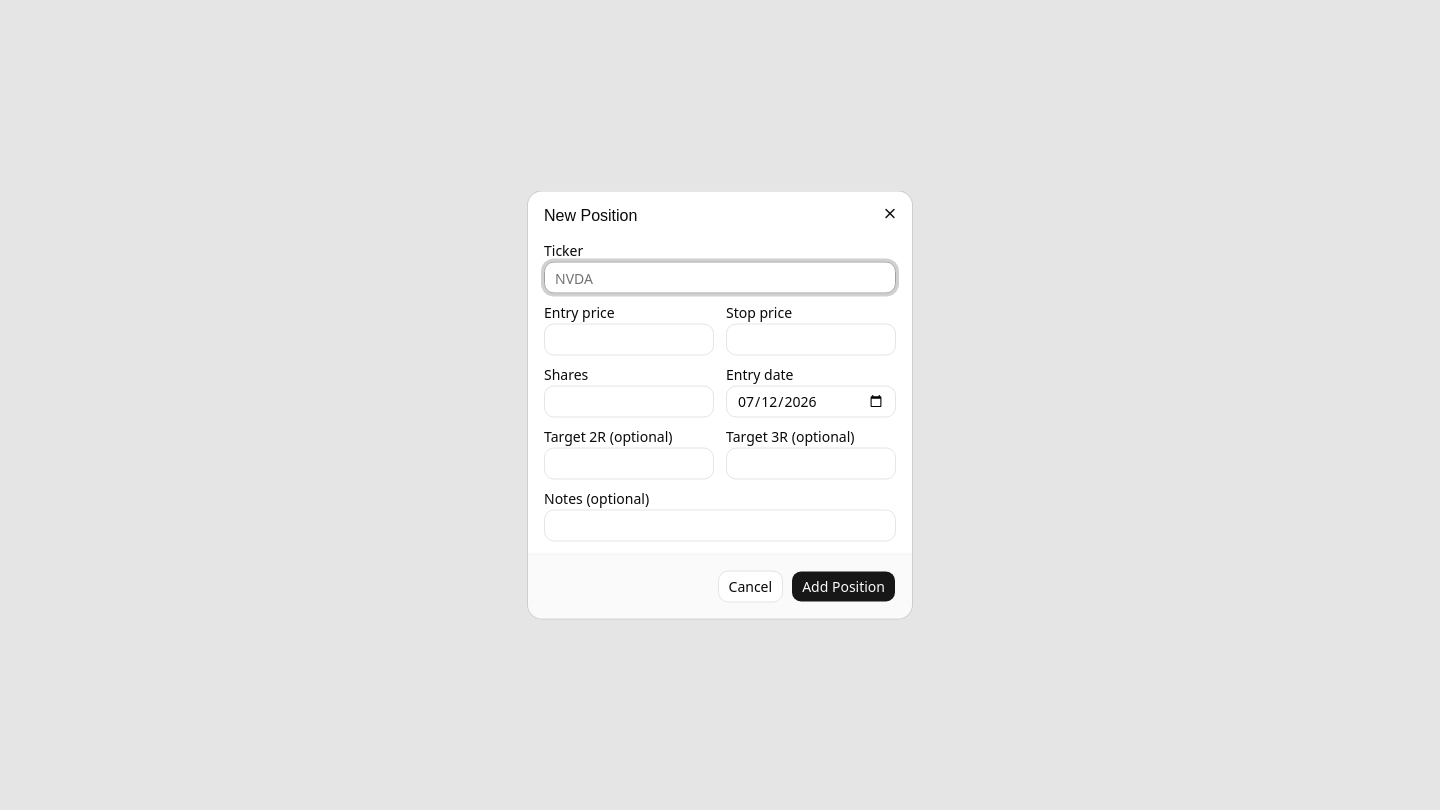
it: S14 – new mode validation failures › ticker empty → shows error, no POST
Type "850" into the number field labelled "Entry price" at (629, 340), box [544,324,714,356]
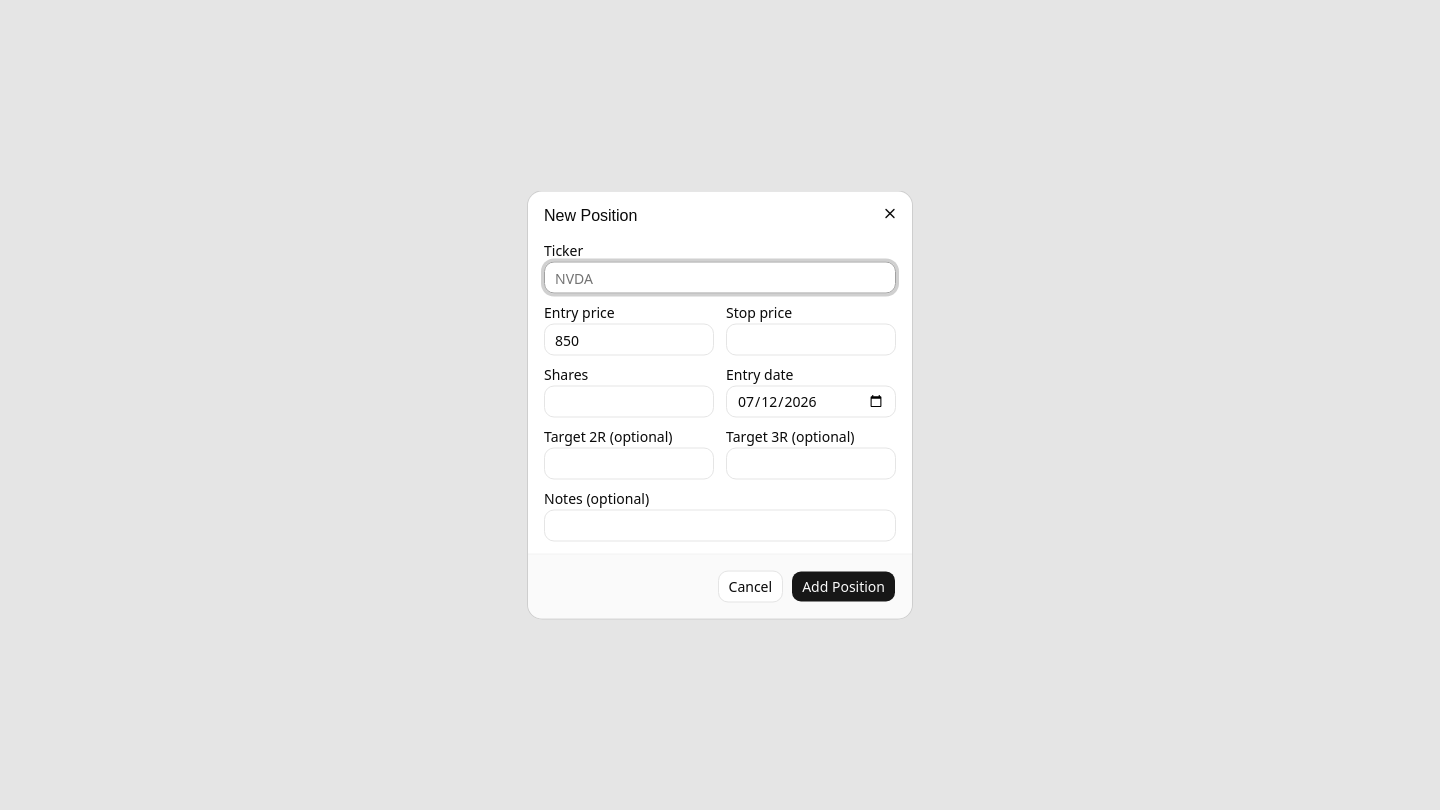
Type "820" into the number field labelled "Stop price" at (811, 340), box [726,324,896,356]
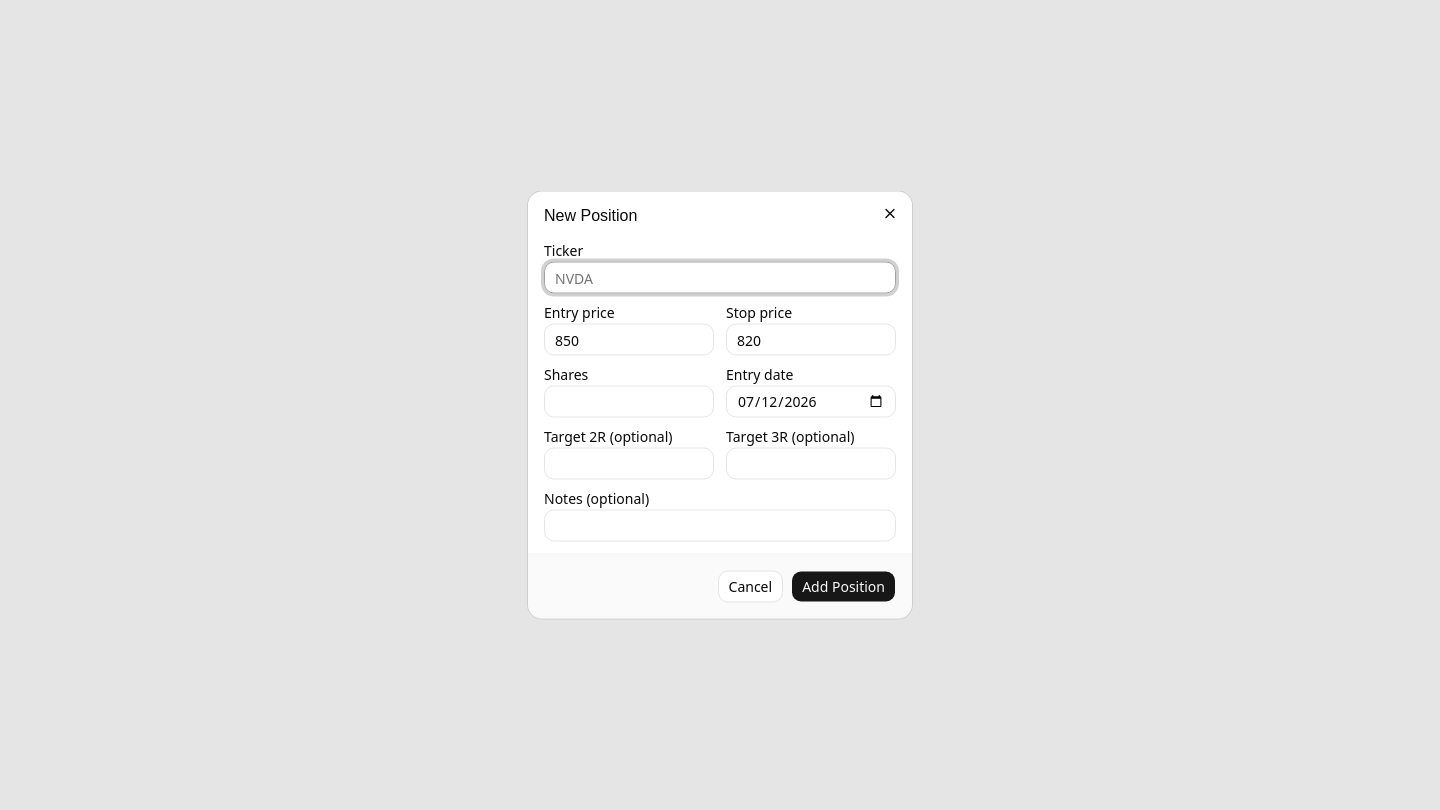
Type "33" into the number field labelled "Shares" at (629, 402), box [544,386,714,418]
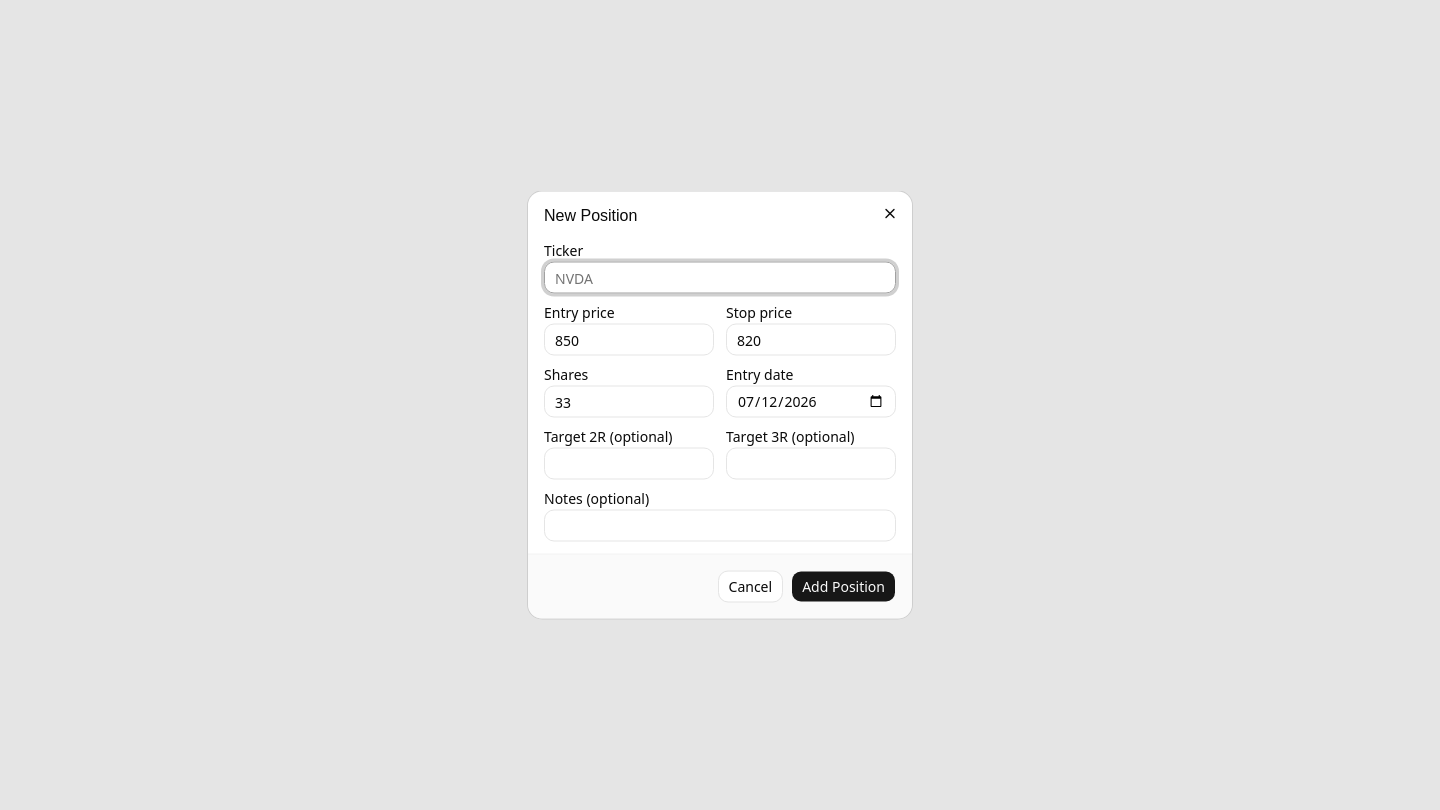
Click the button "Add Position" at (844, 586), box [791,570,896,602]
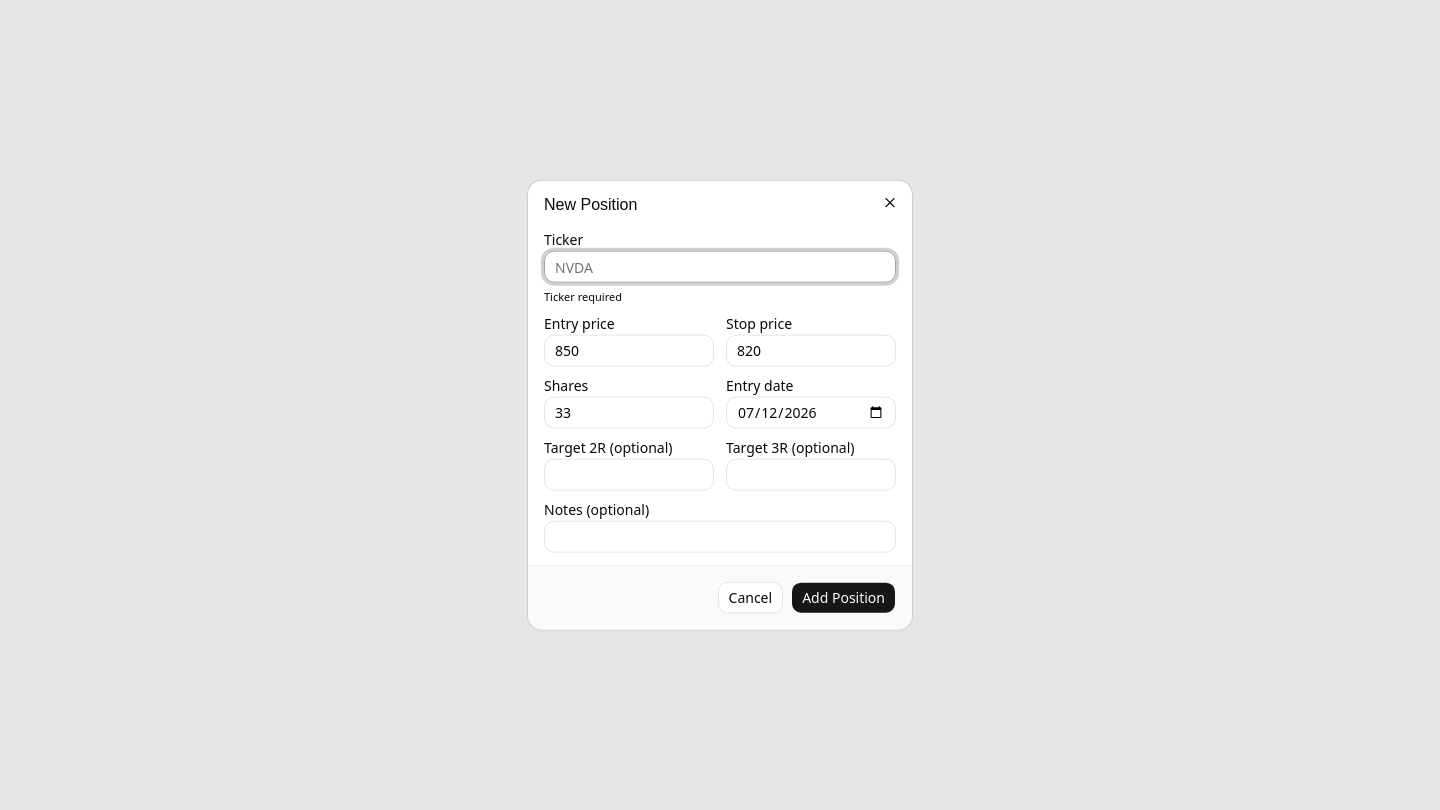
Now the text "Ticker required" is shown, box [544,289,622,304]
